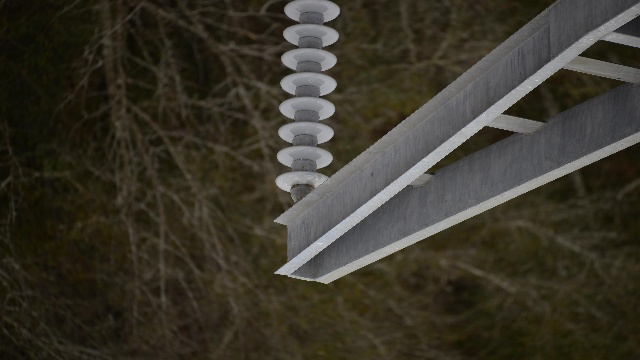insulator_unspecified: (275, 0, 341, 191)
pollution_flashover_local: (283, 171, 323, 187)
